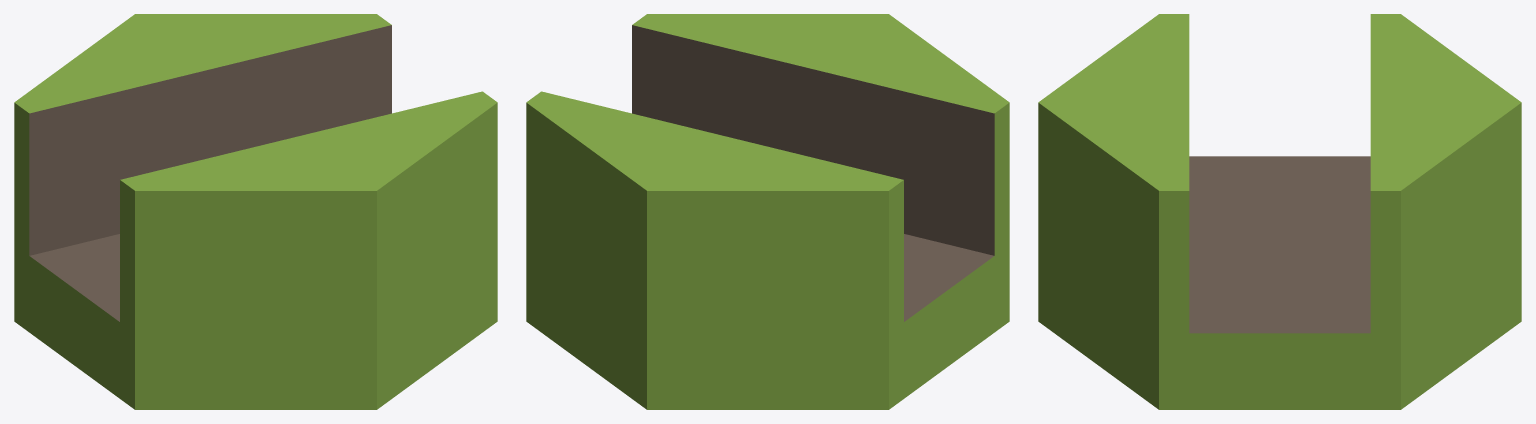
The model's file is moat1.fbx.
3 views of the same model, side by side, from view 1: azimuth 30°, elevation 25°; view 2: azimuth 150°, elevation 25°; view 3: azimuth 270°, elevation 25° (orthographic).
Visible parts, largest first — view 1: Cylinder; view 2: Cylinder; view 3: Cylinder.
Part boxes in pixels (bbox=[...]): Cylinder: bbox=[14, 14, 497, 409]; Cylinder: bbox=[526, 14, 1009, 409]; Cylinder: bbox=[1038, 14, 1521, 409].
Size of the model in its own units: 1.73 by 1 by 2.
